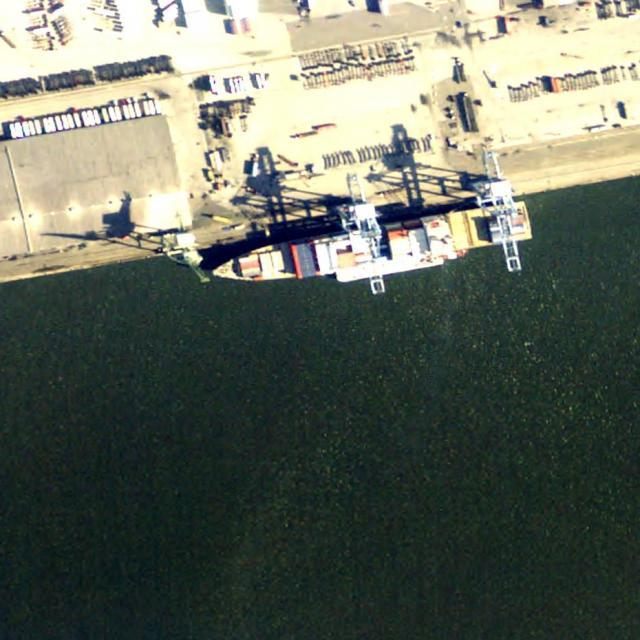Container Ship: (207, 198, 533, 294)
